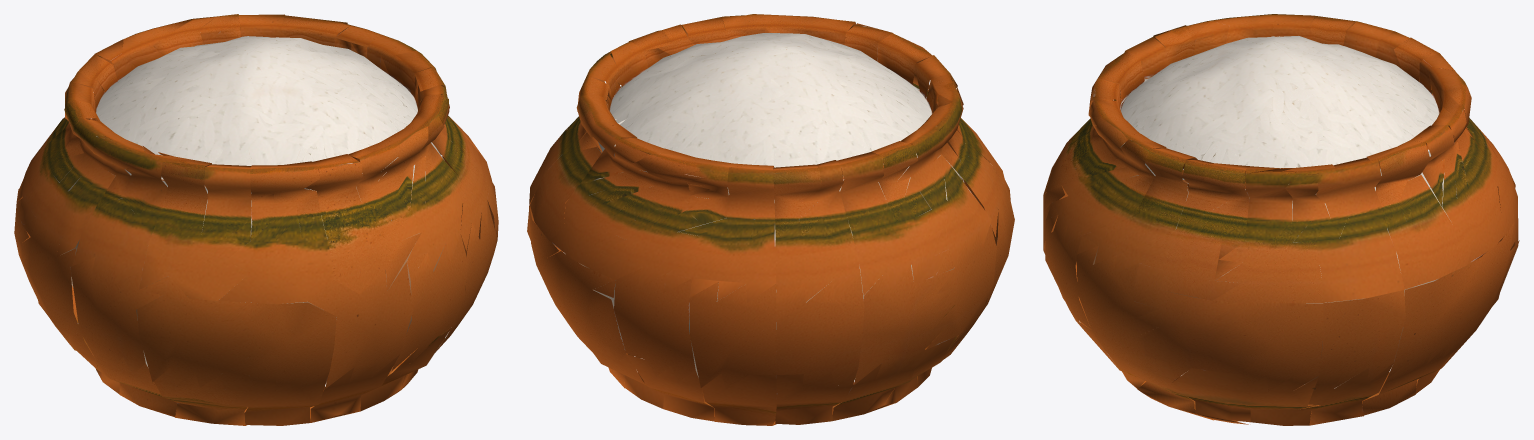
The model's file is mdl_ra4_arroz.fbx.
3 views of the same model, side by side, from view 1: azimuth 30°, elevation 25°; view 2: azimuth 150°, elevation 25°; view 3: azimuth 270°, elevation 25° (orthographic).
Visible parts, largest first — view 1: SM_arroz, RiceRawSurface; view 2: SM_arroz, RiceRawSurface; view 3: SM_arroz, RiceRawSurface.
Part boxes in pixels (<box>): SM_arroz: <box>14,14,498,425</box>; RiceRawSurface: <box>90,36,417,192</box>; SM_arroz: <box>527,14,1014,425</box>; RiceRawSurface: <box>610,33,936,190</box>; SM_arroz: <box>1043,14,1519,425</box>; RiceRawSurface: <box>1120,36,1439,189</box>.
Bounding box in the file's own units: 0.2098 × 0.15 × 0.2101.
